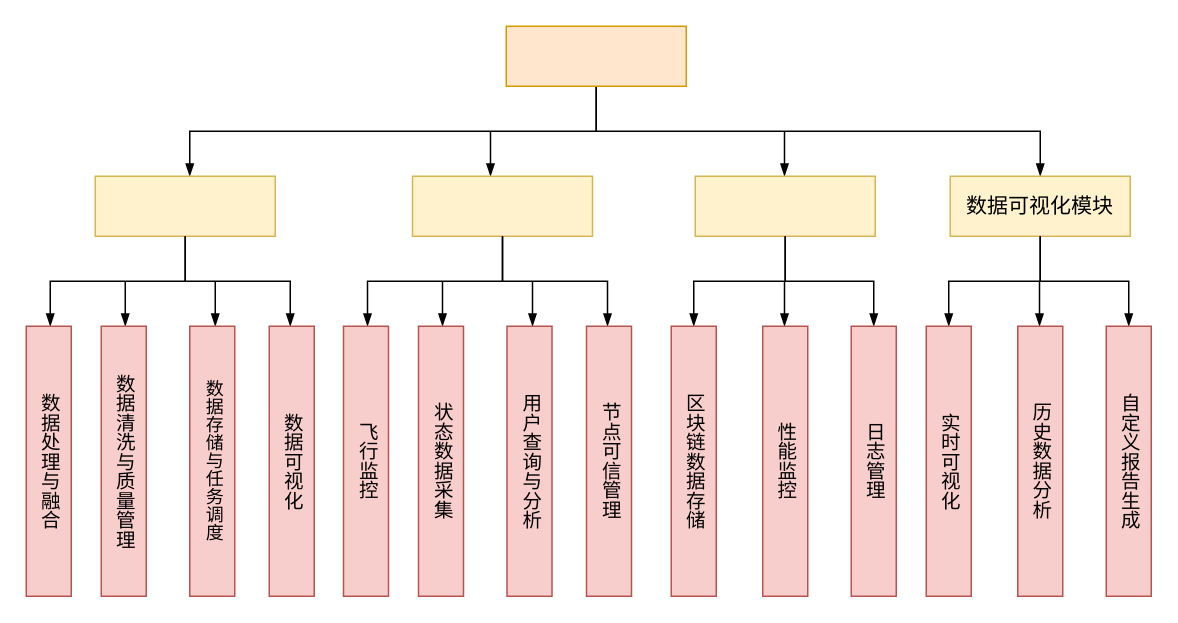
Some shapes in this 1178 by 623 pixel diagram are drawn without their labels. The shapes that lost their labels are listed below. From the top down, each one's centre as x and y in pixels, then its label:
point (595, 55): 功能设计
point (184, 205): 多场景管理 模块
point (501, 205): 无人机监控与查询模块
point (784, 205): 区块存储与监控 模块
